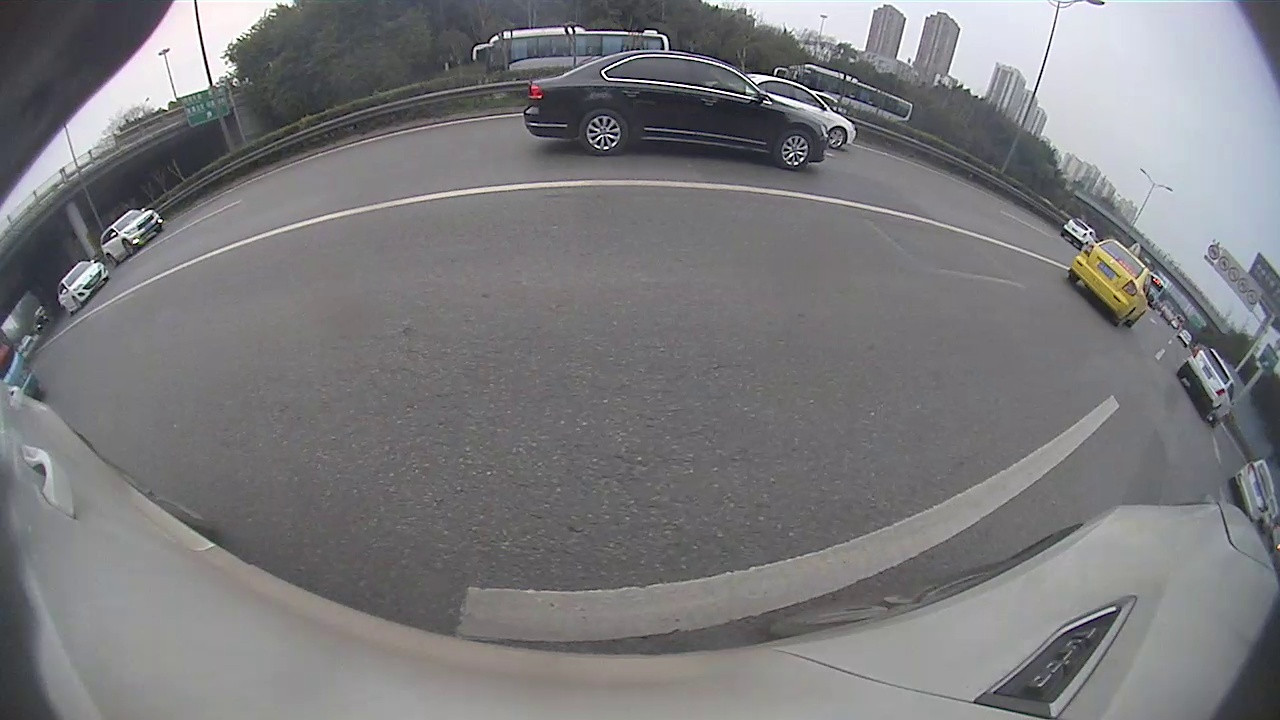car: (525, 48, 828, 170), (743, 73, 855, 148), (1068, 237, 1155, 330), (1178, 347, 1232, 425), (97, 206, 162, 263), (56, 258, 105, 313)
front: (777, 131, 817, 171), (827, 127, 847, 150), (119, 240, 136, 258), (71, 297, 84, 311)
rear: (581, 110, 627, 155), (105, 254, 117, 269)
